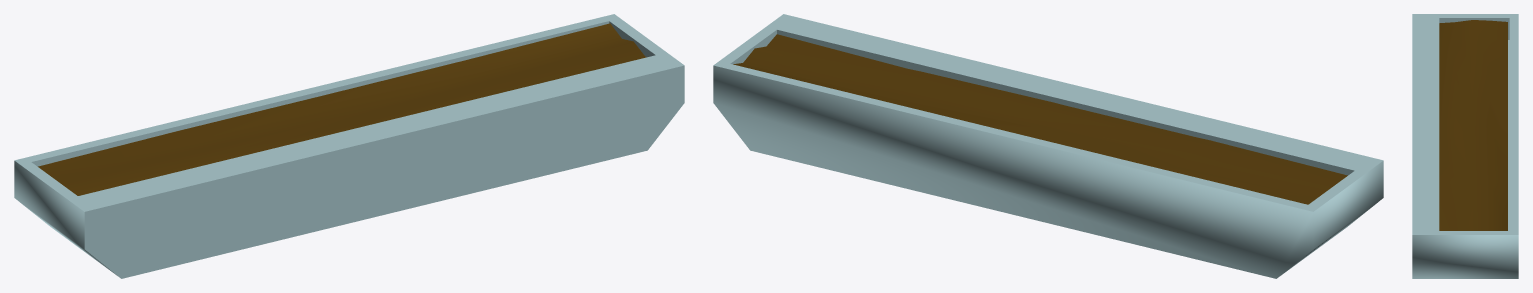
Rendered from BuildingWindowBalcony.fbx.
3 renders of one model, left to right at view 1: azimuth 30°, elevation 25°; view 2: azimuth 150°, elevation 25°; view 3: azimuth 270°, elevation 25°, orthographic. The views are drawn at different scales.
Visible parts, largest first — view 1: BuildingWindowBalcony, BalconyDirt; view 2: BuildingWindowBalcony, BalconyDirt; view 3: BalconyDirt, BuildingWindowBalcony.
Part boxes in pixels (<box>): BuildingWindowBalcony: <box>14,14,684,278</box>; BalconyDirt: <box>38,23,646,195</box>; BuildingWindowBalcony: <box>713,14,1383,278</box>; BalconyDirt: <box>733,34,1347,204</box>; BalconyDirt: <box>1439,20,1507,230</box>; BuildingWindowBalcony: <box>1412,14,1518,278</box>.
Bounding box in the file's own units: 32.42 × 6.58 × 3.93.
